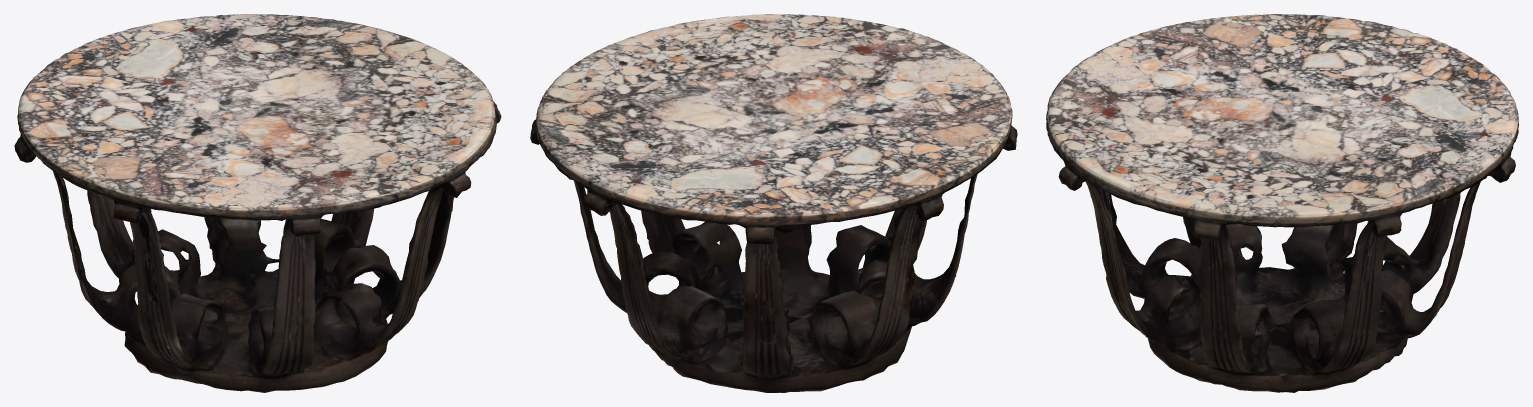
File: Round_table.glb
3 renders of one model, left to right at view 1: azimuth 30°, elevation 25°; view 2: azimuth 150°, elevation 25°; view 3: azimuth 270°, elevation 25°, orthographic.
Visible parts, largest first — view 1: 3DModel; view 2: 3DModel; view 3: 3DModel.
Part boxes in pixels (x1,y1,x2,y2): 3DModel: (14,14,501,392); 3DModel: (530,14,1017,392); 3DModel: (1046,14,1518,392).
Size of the model in its own units: 1.46 by 0.7885 by 1.46.
1 material, 1 textured.
